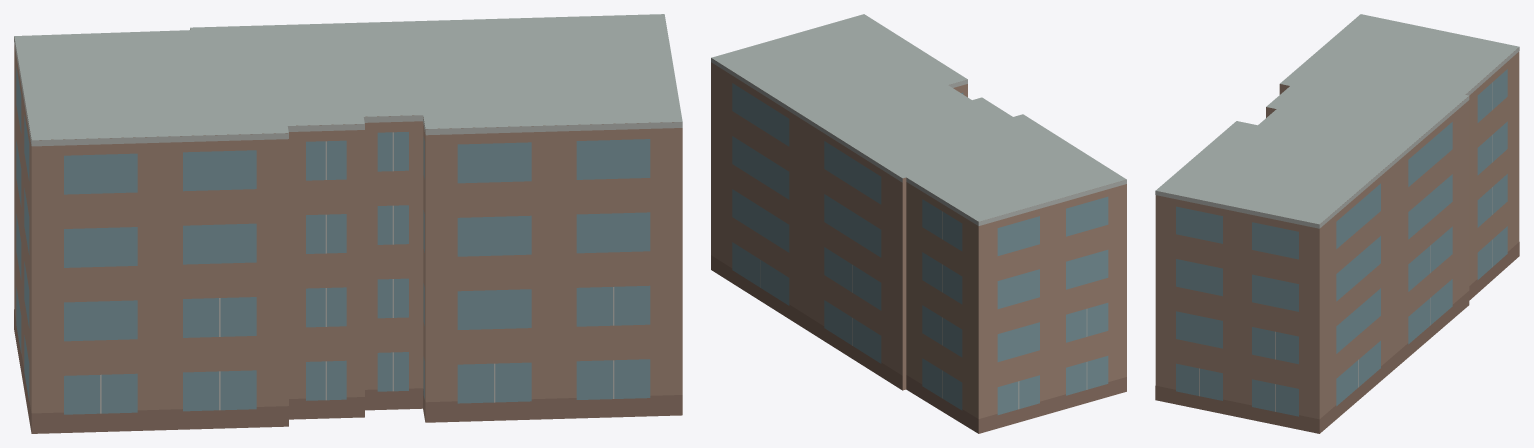
The model's file is survey-upis-32663826.glb.
The picture shows the model from 3 angles, left to right: view 1: azimuth 30°, elevation 25°; view 2: azimuth 150°, elevation 25°; view 3: azimuth 270°, elevation 25°; orthographic projection. The views are drawn at different scales.
Parts seen in each view (by area): view 1: survey-upis-32663826.tmp; view 2: survey-upis-32663826.tmp; view 3: survey-upis-32663826.tmp.
Part boxes in pixels (x1,y1,x2,y2): survey-upis-32663826.tmp: [14, 14, 682, 433]; survey-upis-32663826.tmp: [711, 14, 1126, 433]; survey-upis-32663826.tmp: [1155, 14, 1519, 433].
Bounding box in the file's own units: 25.3 × 11.74 × 18.5.
